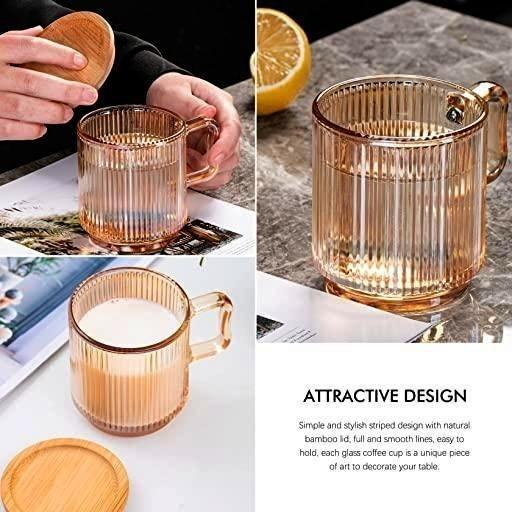glass-mug: (302, 71, 512, 318), (67, 261, 234, 441), (70, 98, 223, 250)
